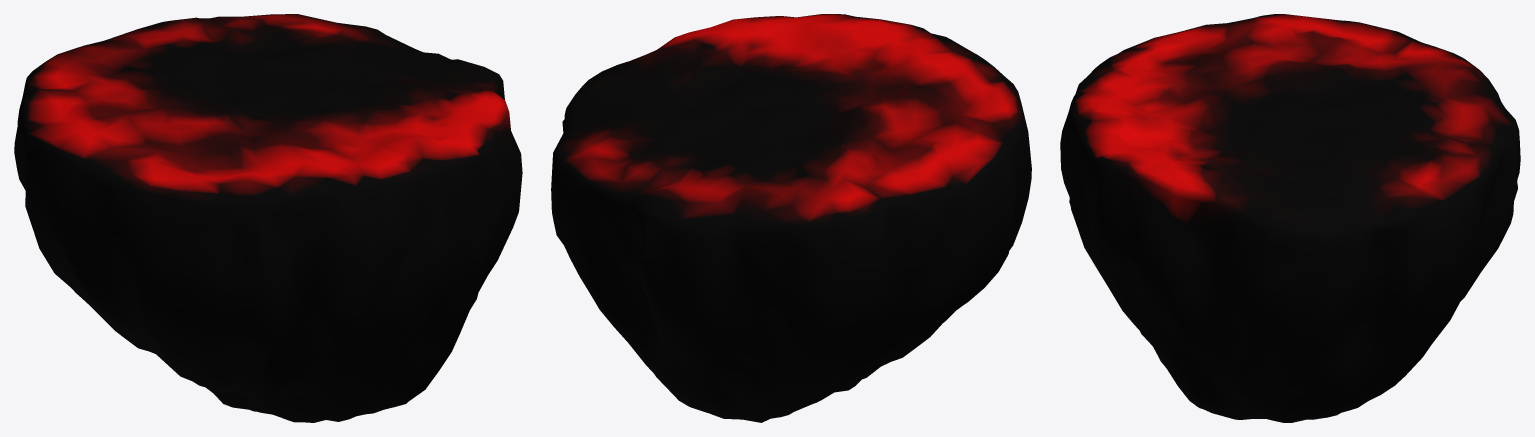
Rendered from Island.fbx.
3 views of the same model, side by side, from view 1: azimuth 30°, elevation 25°; view 2: azimuth 150°, elevation 25°; view 3: azimuth 270°, elevation 25° (orthographic). The views are drawn at different scales.
Parts seen in each view (by area): view 1: Island; view 2: Island; view 3: Island.
Boxes of the visible parts, x1,y1,x2,y2 form: Island: [14, 14, 522, 422]; Island: [551, 14, 1031, 422]; Island: [1060, 14, 1520, 422].
Bounding box in the file's own units: 47.16 × 33.45 × 46.77.
